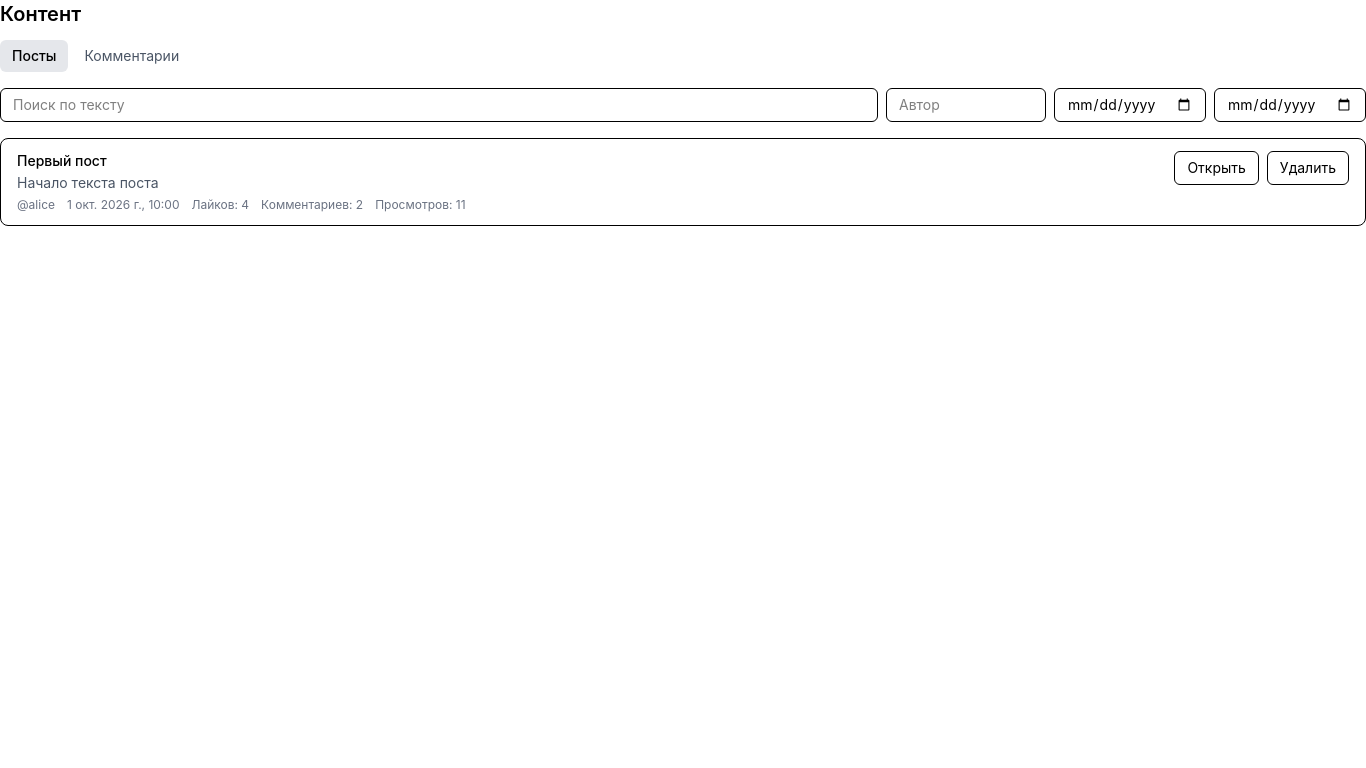
AdminContentPage: посты › удаление: кнопка неактивна без причины, затем удаляет и перезагружает список
Click the button "Удалить": click(1308, 168) [1267,151,1349,185]
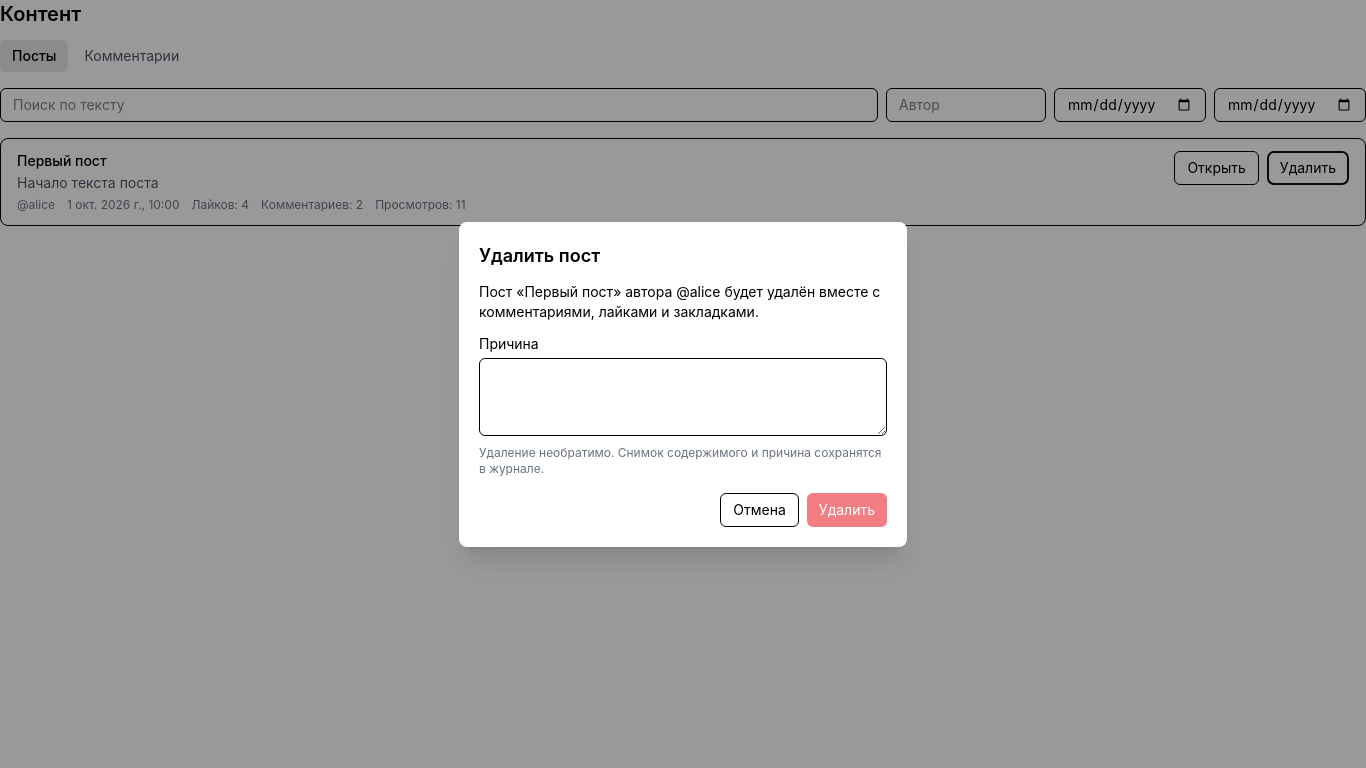
Now the button "Удалить" is disabled, box [807,492,887,526]
In the text box labelled "Причина": (683, 396) [479,358,887,436], type "  спам  "
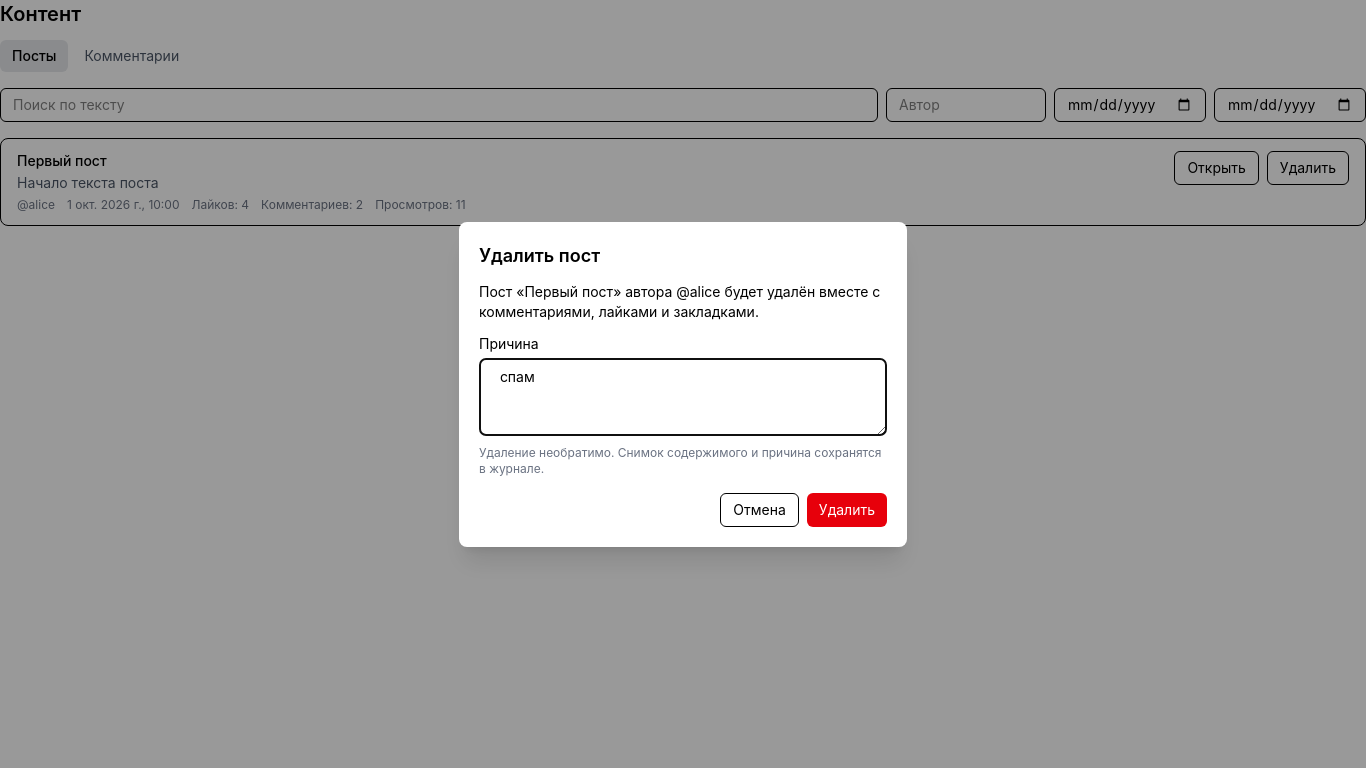
Now the button "Удалить" is enabled
Click the button "Удалить": click(847, 510) [807,492,887,526]
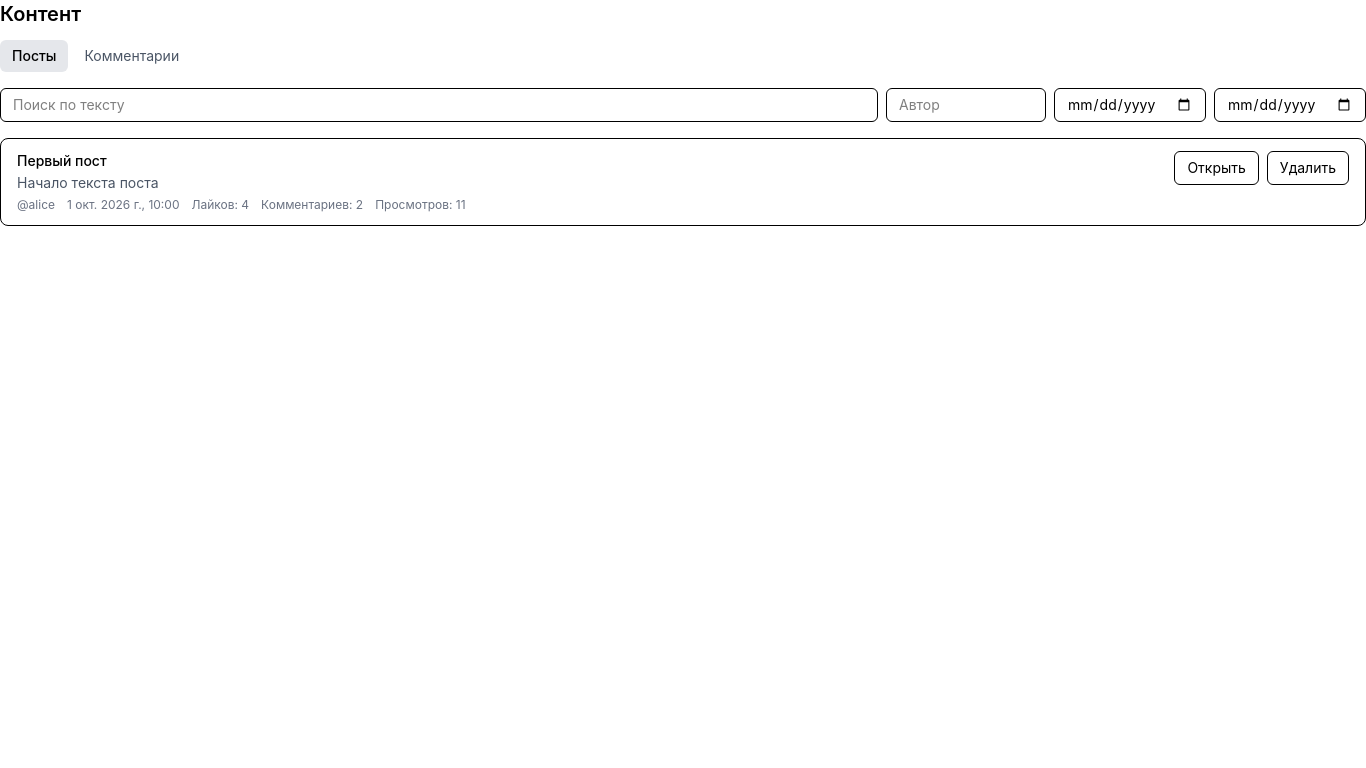
Now the dialog is gone
